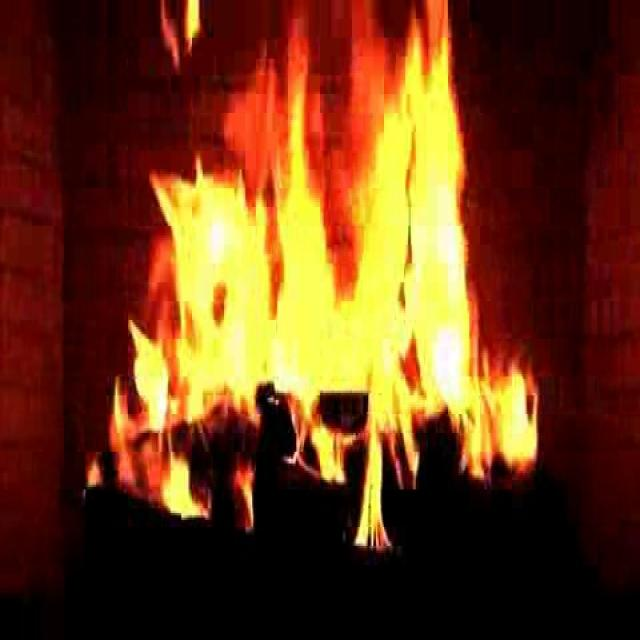fire: (110, 18, 514, 484)
